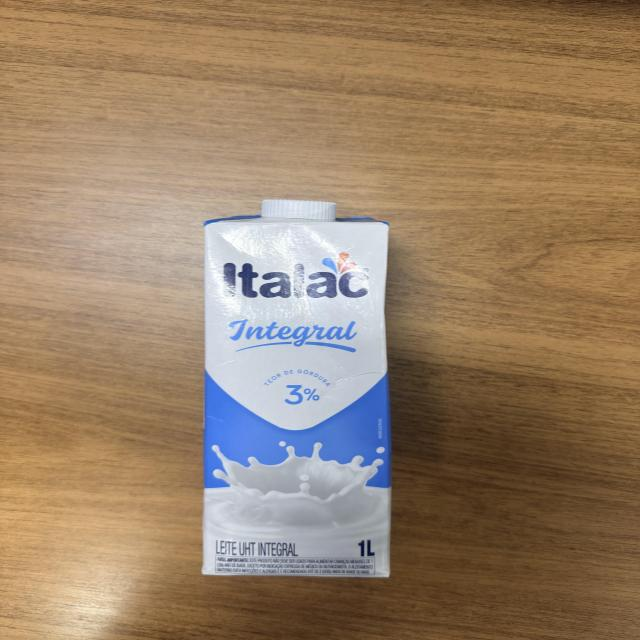Caixa de Leite: (202, 211, 397, 571)
